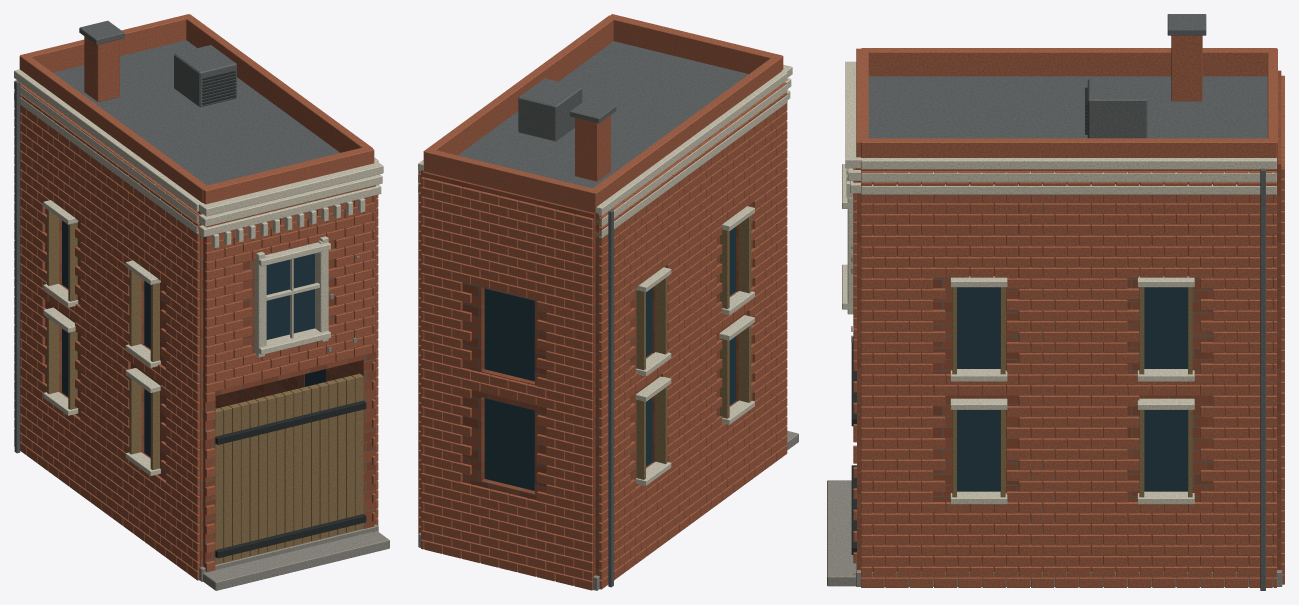
File: VICT15_lod0.glb
The picture shows the model from 3 angles, left to right: view 1: azimuth 30°, elevation 25°; view 2: azimuth 150°, elevation 25°; view 3: azimuth 270°, elevation 25°; orthographic projection. The views are drawn at different scales.
Visible parts, largest first — view 1: VICT15_LOD0; view 2: VICT15_LOD0; view 3: VICT15_LOD0.
Boxes of the visible parts, bbox=[...] form: VICT15_LOD0: bbox=[14, 14, 389, 590]; VICT15_LOD0: bbox=[418, 14, 798, 590]; VICT15_LOD0: bbox=[827, 14, 1284, 590].
Size of the model in its own units: 3.71 by 7.85 by 6.6.
Materials: 11 (9 with a texture image).
